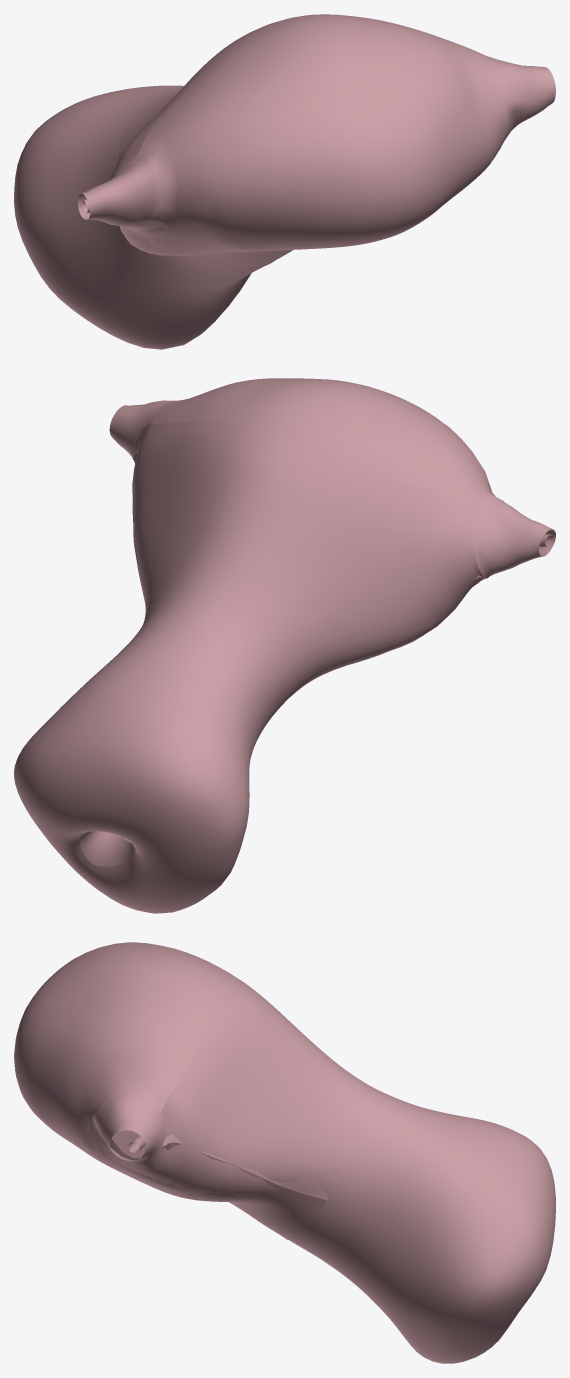
Rendered from 3DPX-020996.glb.
3 views of the same model, one above another, from view 1: azimuth 30°, elevation 25°; view 2: azimuth 150°, elevation 25°; view 3: azimuth 270°, elevation 25° (orthographic). The views are drawn at different scales.
Visible parts, largest first — view 1: VH_F_fundus_of_uterus, VH_F_cervix, VH_F_cornua, VH_F_posterior_wall_of_uterus, VH_F_lower_uterine_segment, VH_F_body_of_uterus; view 2: VH_F_body_of_uterus, VH_F_cervix, VH_F_fundus_of_uterus, VH_F_lower_uterine_segment, VH_F_cornua, VH_F_external_cervical_os; view 3: VH_F_cervix, VH_F_body_of_uterus, VH_F_fundus_of_uterus, VH_F_lower_uterine_segment, VH_F_posterior_wall_of_uterus, VH_F_cornua, VH_F_anterior_wall_of_uterus.
Part boxes in pixels (x1,y1,x2,y2): VH_F_fundus_of_uterus: (132, 14, 516, 248); VH_F_cervix: (14, 85, 251, 349); VH_F_cornua: (78, 58, 555, 227); VH_F_posterior_wall_of_uterus: (140, 147, 500, 269); VH_F_lower_uterine_segment: (119, 87, 262, 285); VH_F_body_of_uterus: (114, 18, 511, 268); VH_F_body_of_uterus: (132, 421, 486, 694); VH_F_cervix: (14, 642, 261, 913); VH_F_fundus_of_uterus: (142, 378, 495, 513); VH_F_lower_uterine_segment: (124, 600, 296, 737); VH_F_cornua: (109, 400, 555, 578); VH_F_external_cervical_os: (79, 831, 136, 866); VH_F_cervix: (332, 1106, 555, 1363); VH_F_body_of_uterus: (115, 962, 366, 1213); VH_F_fundus_of_uterus: (14, 942, 217, 1163); VH_F_lower_uterine_segment: (289, 1083, 419, 1266); VH_F_posterior_wall_of_uterus: (40, 1119, 326, 1239); VH_F_cornua: (95, 942, 164, 1164); VH_F_anterior_wall_of_uterus: (162, 1134, 328, 1199).
Size of the model in its own units: 0.5249 by 0.4699 by 0.587.
